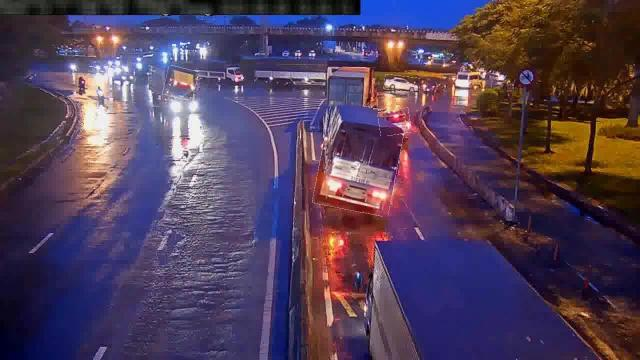Car: (378, 109, 410, 135), (384, 75, 420, 91)
Truck: (317, 104, 403, 214), (328, 68, 376, 106), (164, 66, 196, 100)
